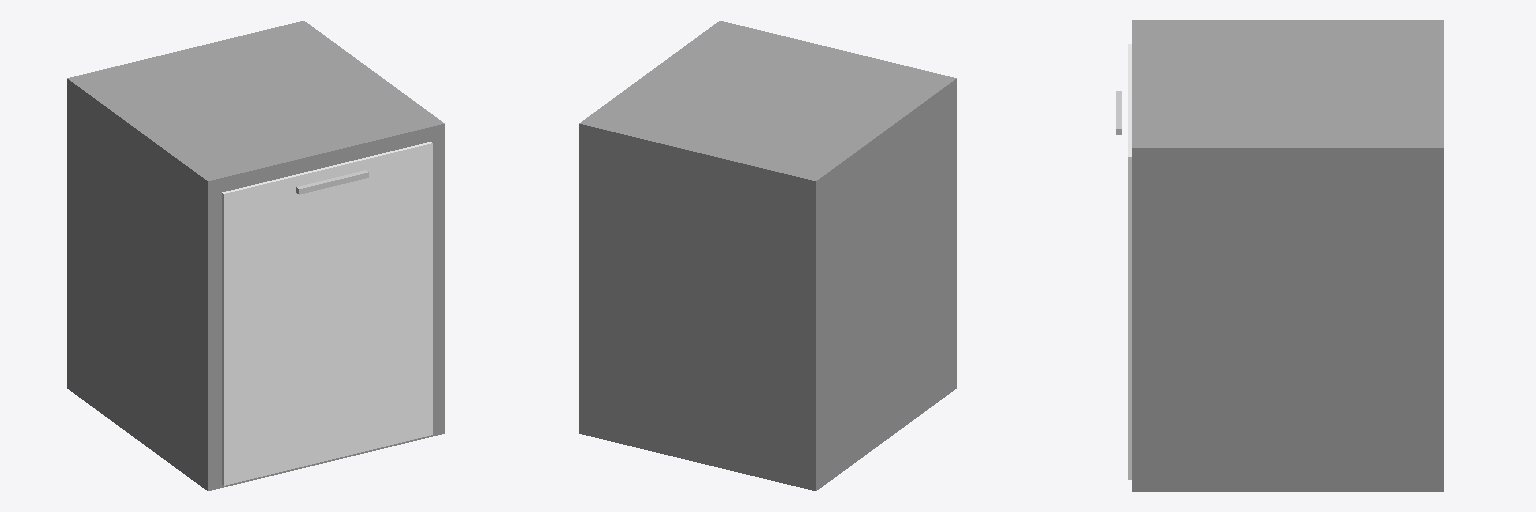
The robot description file, URDF, robot "dishwasher_door":
<?xml version="1.0" ?>
<robot name="dishwasher_door">
    <link name="world"/>
    <joint name="fixed" type="fixed">
        <parent link="world"/>
        <child link="doorFrameLink"/>
        <origin xyz="0.0 0 0.01" rpy="0 0 0"/>
    </joint>

    <link name="doorFrameLink">
       <visual>
            <origin rpy="0 0 0" xyz="-0.32 0.35 0.4"/>
            <geometry>
                <box size="0.04 0.7 0.82"/>
            </geometry>
            <material name="door_material">
                <color rgba="0.7 0.7 0.7 1" />
            </material>
        </visual>
        <visual>
            <origin rpy="0 0 0" xyz="0.32 0.35 0.4"/>
            <geometry>
                <box size="0.04 0.7 0.82"/>
            </geometry>
            <material name="door_material"/>
        </visual>
        <visual>
            <origin rpy="0 0 0" xyz="0.0 0.35 0.82"/>
            <geometry>
                <box size="0.68 0.7 0.04"/>
            </geometry>
            <material name="door_material"/>
        </visual>
        <visual>
            <origin rpy="0 0 0" xyz="0.0 0.35 -0.005"/>
            <geometry>
                <box size="0.68 0.7 0.01"/>
            </geometry>
            <material name="door_material"/>
        </visual>
        <visual>
            <origin rpy="0 0 0" xyz="0.0 0.68 0.415"/>
            <geometry>
                <box size="0.68 0.04 0.84"/>
            </geometry>
            <material name="door_material"/>
        </visual>
    </link>

    <link name="doorLink">
        <inertial>
            <origin rpy="0 0 0" xyz="0 0 0.4"/>
            <mass value="1.0"/>
            <inertia ixx="0.048966669" ixy="0" ixz="0" iyy="0.046466667" iyz="0" izz="0.0041666669"/>
        </inertial>
        <visual>
            <origin rpy="0 0 0" xyz="0 0 0.4"/>
            <geometry>
                <box size="0.6 0.02 0.8"/>
            </geometry>
            <material name="door">
                <color rgba="1 1 1 1" />
            </material>
        </visual>
        <collision>
            <origin rpy="0 0 0" xyz="0 0 0.4"/>
            <geometry>
                <box size="0.6 0.02 0.8"/>
            </geometry>
        </collision>

    </link>
    <joint name="joint_doorFrameLink_doorLink" type="revolute">
        <parent link="doorFrameLink"/>
        <child link="doorLink"/>
        <dynamics damping="1.0" friction="4.0"/>
        <origin xyz="0 0 0"/>
        <axis xyz="1 0 0"/>
        <limit lower="-0.01" upper="1.5708" />
    </joint>

    <link name="handleLink">
        <inertial>
            <origin rpy="0 0 0" xyz="0 0 0"/>
            <mass value="0.1"/>
            <inertia ixx="0.001" ixy="0" ixz="0" iyy="0.001" iyz="0" izz="0.001"/>
        </inertial>
        <visual>
            <origin rpy="0 0 0" xyz="0 0 0"/>
            <geometry>
                <box size="0.015 0.015 0.2"/>
            </geometry>
            <material name="handle_matreial">
                <color rgba="0.87 0.87 0.87 0.8" />
            </material>
        </visual>
        <collision>
            <origin rpy="0 0 0" xyz="0 0 0"/>
            <geometry>
                <box size="0.015 0.015 0.2"/>
            </geometry>
        </collision>
    </link>

    <joint name="handle_joint" type="fixed">
        <parent link="doorLink"/>
        <child link="handleLink"/>
        <origin xyz="0.0 -0.03 0.77" rpy="4.7124 0 -1.5708"/>
        <axis xyz="1 0 0"/>
    </joint>

    <link name="door_handle_dummy_link">
        <!-- This dummy link is added s.t. the handle is the parent of some link and we can find the handle's index. -->
        <inertial>
            <origin rpy="0 0 0" xyz="0 0 0"/>
            <mass value="0.1"/>
            <inertia ixx="1" ixy="0" ixz="0" iyy="1" iyz="0" izz="1"/>
        </inertial>
    </link>

    <joint name="door_handle_dummy_joint" type="fixed">
        <origin xyz="0 0 0" rpy="0 0 0"/>
        <parent link="handleLink"/>
        <child link="door_handle_dummy_link"/>
    </joint>

</robot>

--- Facts derived from the render (not from the file) ---
Views: 3 orthographic renders of the robot side by side, from view 1: azimuth 30°, elevation 25°; view 2: azimuth 150°, elevation 25°; view 3: azimuth 270°, elevation 25°.
Model dishwasher_door with 5 links and 4 joints (1 revolute, 3 fixed), rooted at world, posed all joints at 0.
Visible links, largest first — view 1: doorFrameLink, doorLink, handleLink; view 2: doorFrameLink; view 3: doorFrameLink, doorLink.
Link boxes in pixels (x1,y1,x2,y2): doorFrameLink: (67, 21, 444, 490); doorLink: (222, 142, 432, 485); handleLink: (296, 170, 368, 194); doorFrameLink: (579, 21, 956, 490); doorFrameLink: (1132, 20, 1443, 491); doorLink: (1128, 44, 1131, 479).
Size in the robot's own frame: 0.68 by 0.7375 by 0.85 metres.
Geometry: primitives only (box / cylinder / sphere), no mesh files.